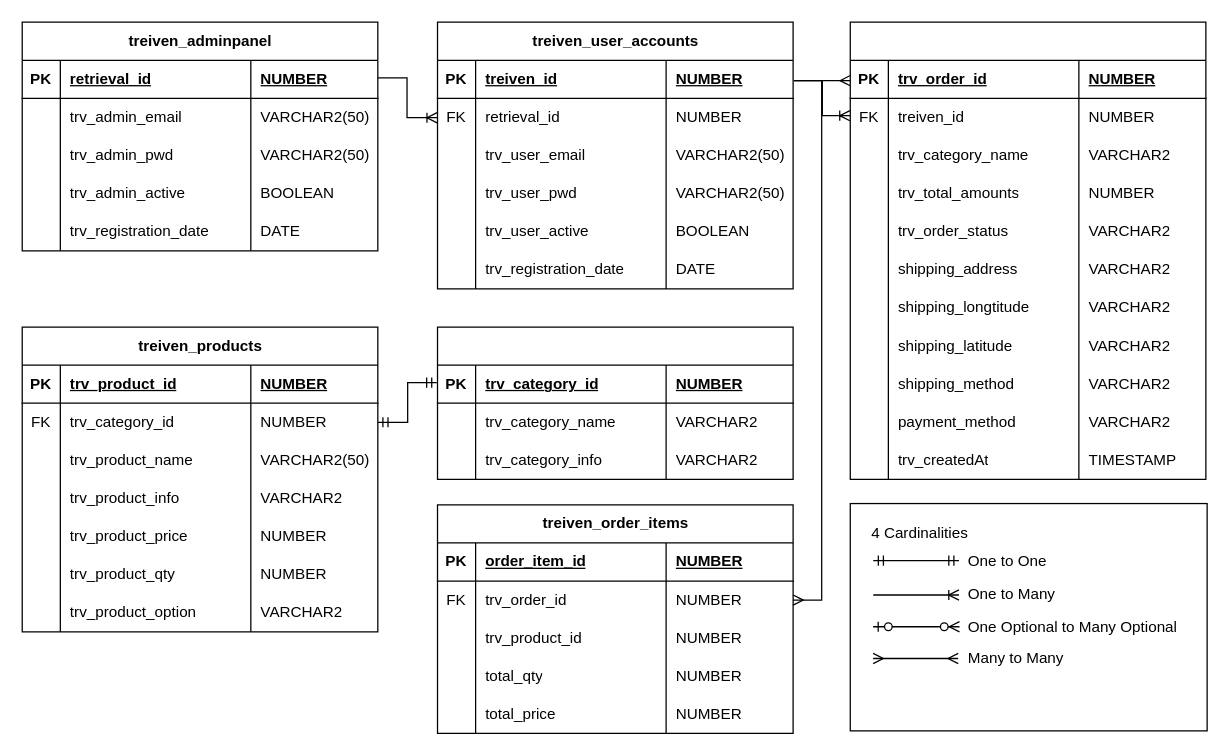
Image size: 1231x756. Some labels were removed from this diagram. The box of each missing label's shape, as (x1, y1, x2, y2) in pixels:
treiven_category: (436, 326, 793, 479)
treiven_orders: (849, 21, 1206, 479)
